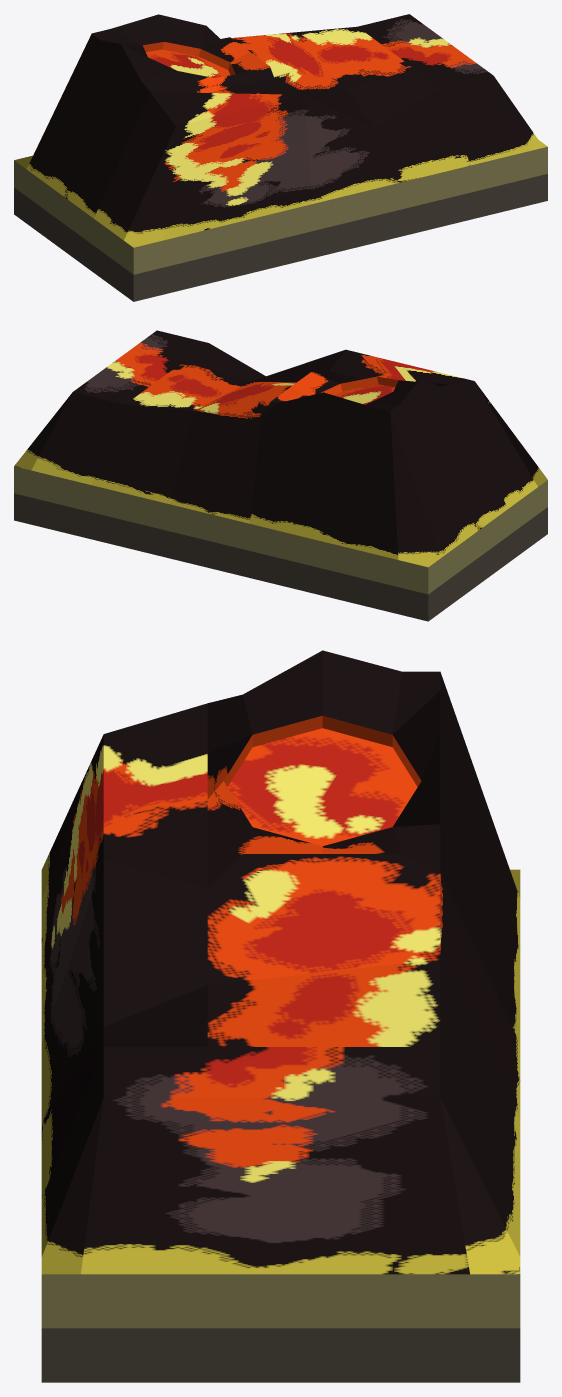
The model's file is tile2_1 Vulkano.fbx.
The picture shows the model from 3 angles, top to bottom: view 1: azimuth 30°, elevation 25°; view 2: azimuth 150°, elevation 25°; view 3: azimuth 270°, elevation 25°; orthographic projection. The views are drawn at different scales.
Visible parts, largest first — view 1: Cube.003; view 2: Cube.003; view 3: Cube.003.
Part boxes in pixels (x1,y1,x2,y2): Cube.003: [14, 14, 547, 301]; Cube.003: [14, 330, 547, 621]; Cube.003: [41, 650, 520, 1382].
Size of the model in its own units: 400 by 177 by 200.
Materials: 1 (1 with a texture image).
